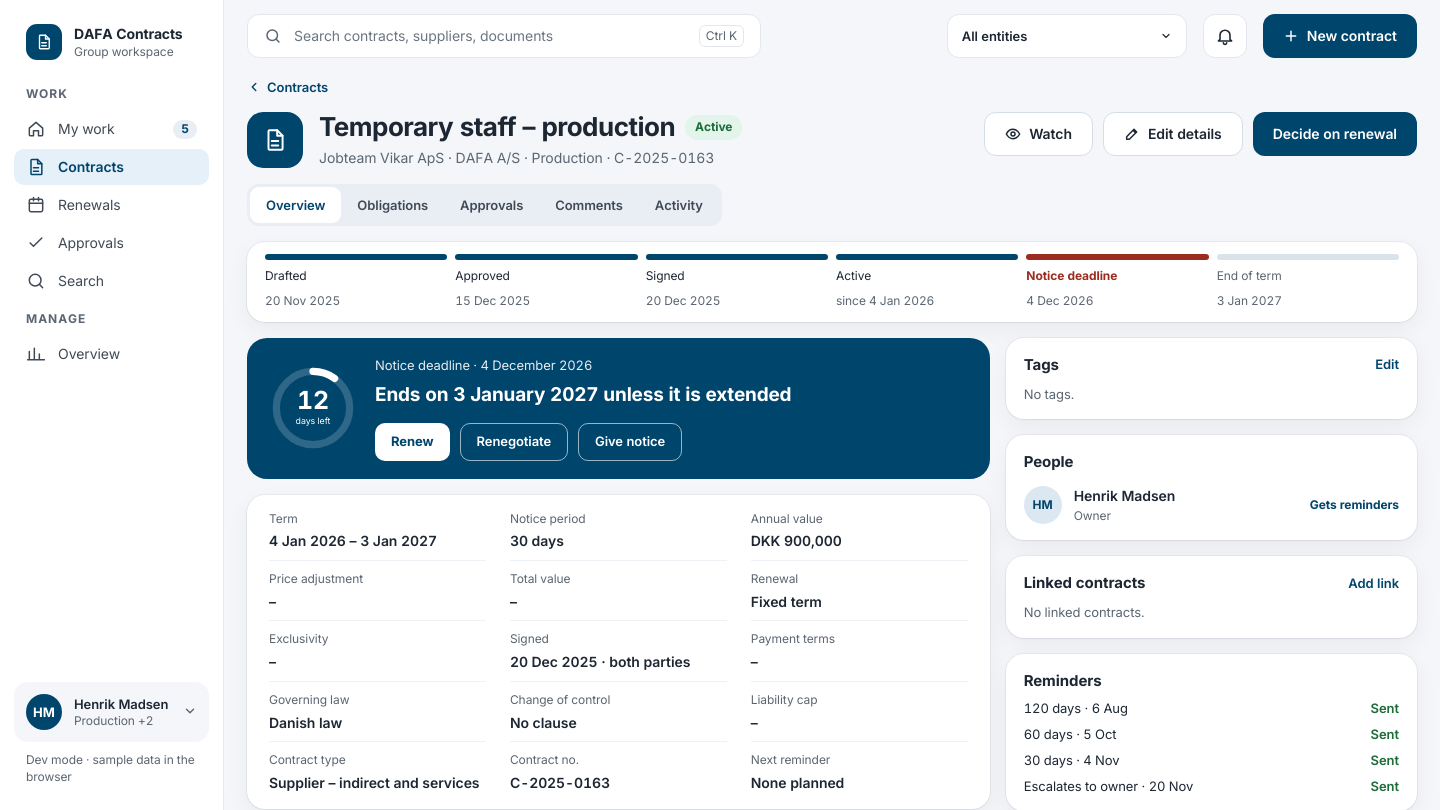
Test case: H2: Edit details on a contract without a master counterparty › the owner of a non-draft contract completes missing data and saves
Click the button "Edit details". click: click(1173, 134)
box: left=1103, top=112, right=1243, bottom=156
(page scrolled)
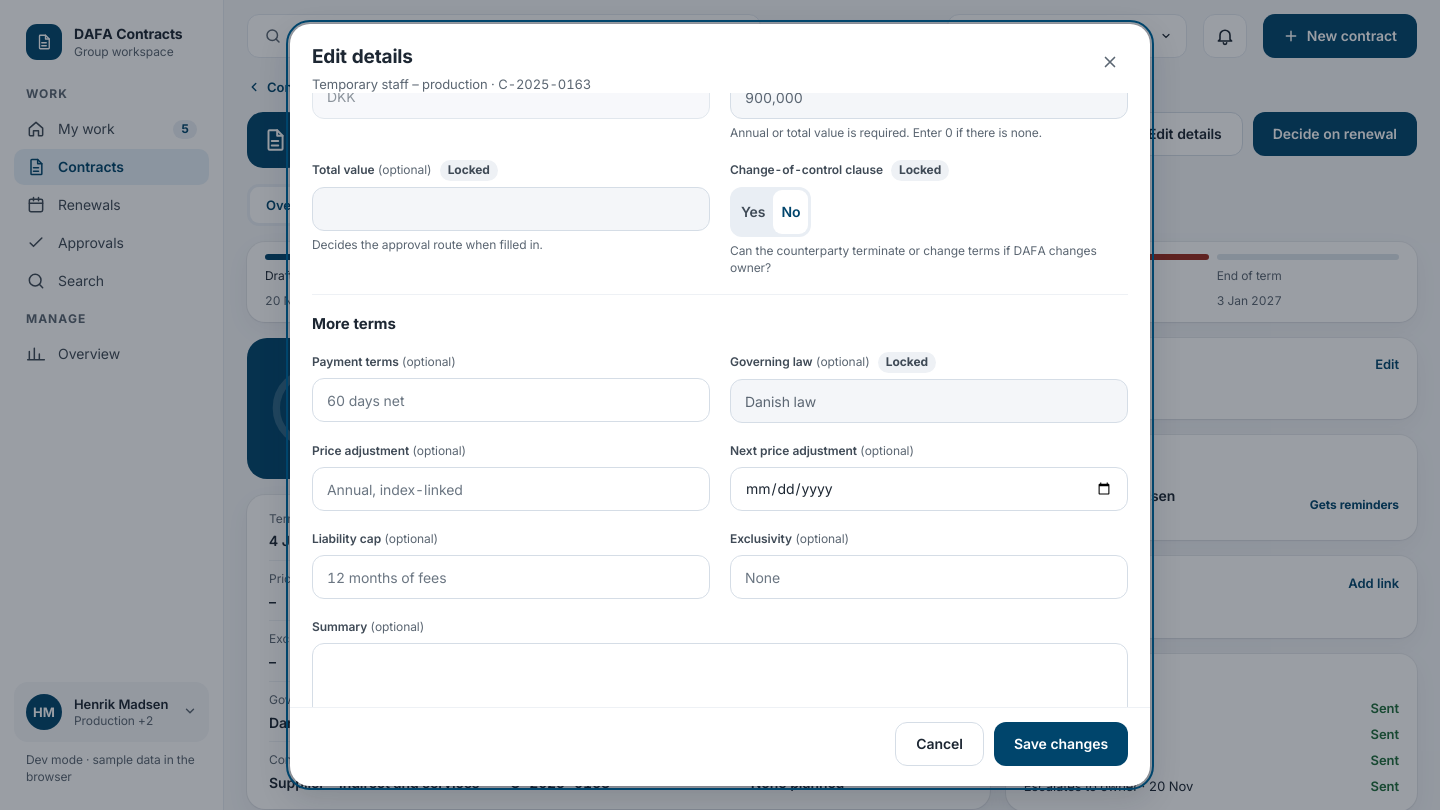
Type "45 days net" into the field labelled "Payment terms (optional)". click: (511, 400)
box: left=312, top=378, right=710, bottom=422
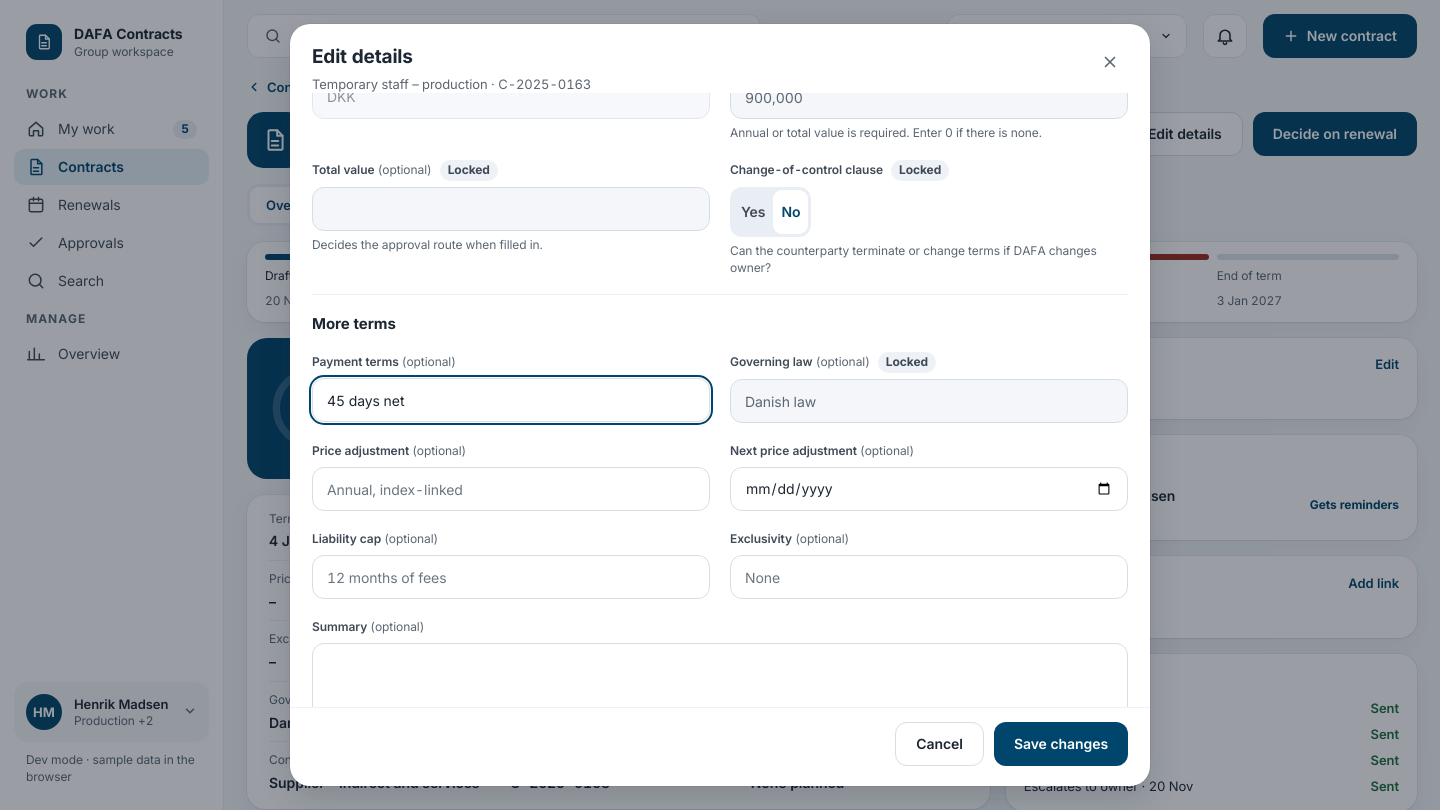
Click the button "Save changes". click: click(1061, 744)
box: left=994, top=722, right=1128, bottom=766
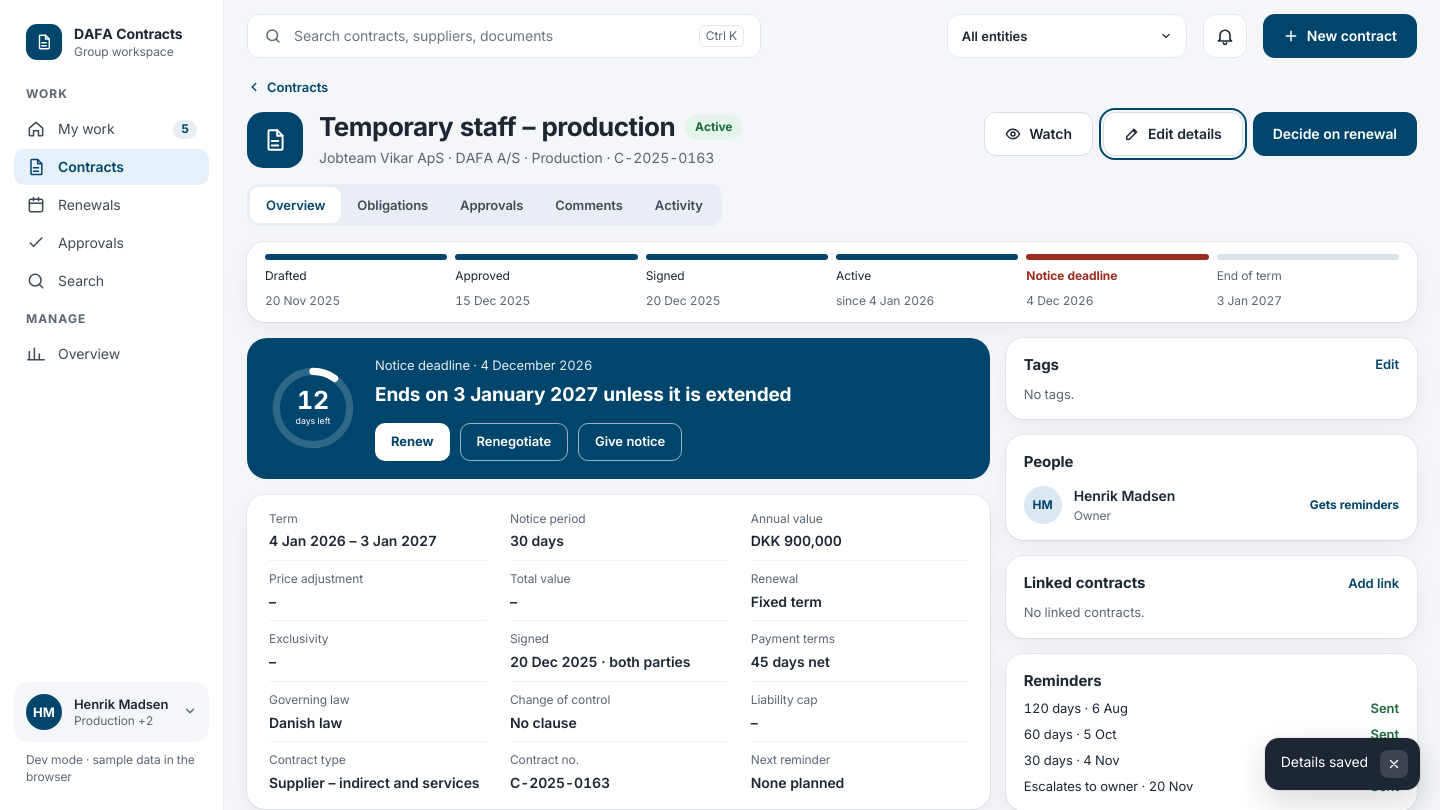
Expected: the text "Details saved" is shown, left=1281, top=750, right=1368, bottom=772
